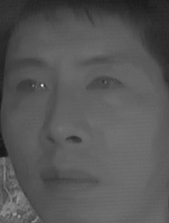eye: (84, 71, 123, 96), (14, 75, 49, 98)
mouth: (35, 161, 102, 201)
